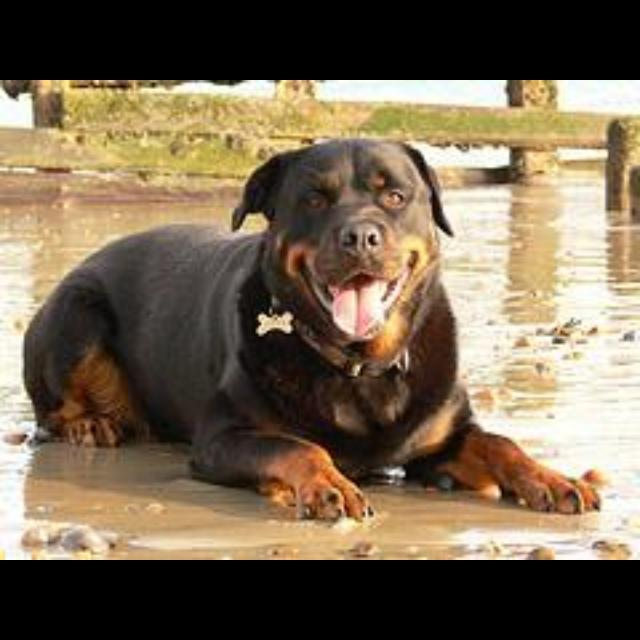rottweiler: (20, 135, 606, 524)
